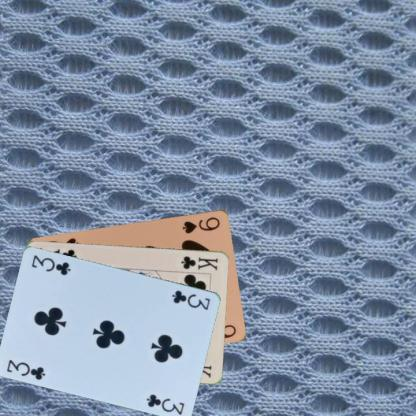3c: (4, 356, 47, 381), (169, 287, 212, 311)
9s: (180, 214, 222, 234)
Kc: (179, 253, 219, 272)
